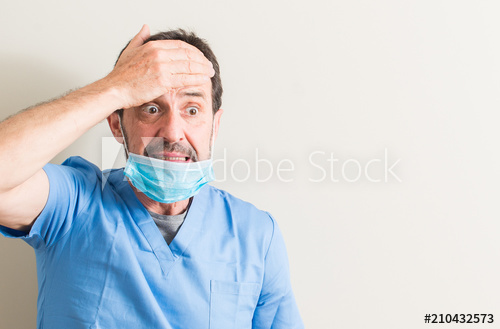mask_weared_incorrect: (107, 78, 226, 206)
